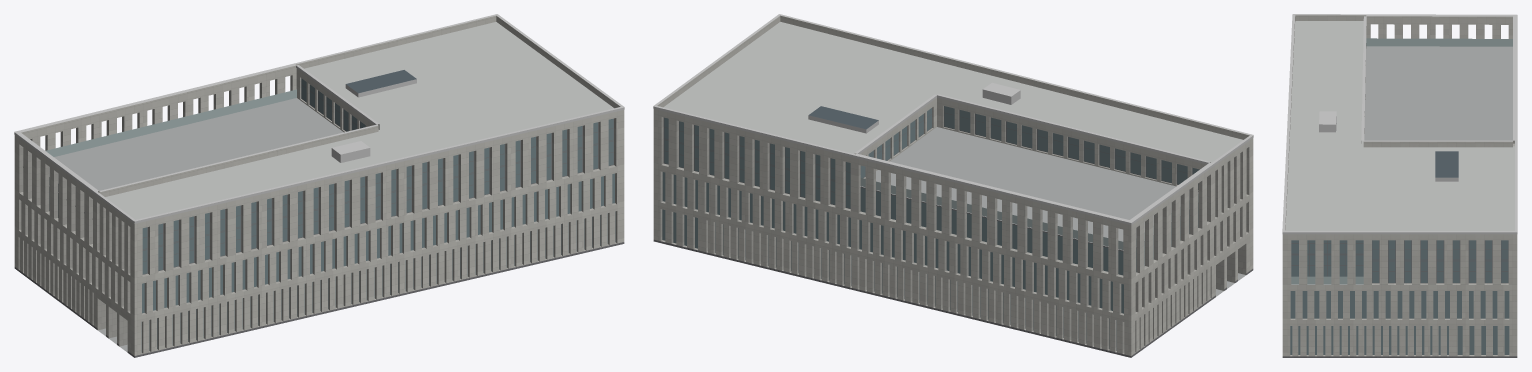
3 views of the same model, side by side, from view 1: azimuth 30°, elevation 25°; view 2: azimuth 150°, elevation 25°; view 3: azimuth 270°, elevation 25° (orthographic). The views are drawn at different scales.
Visible parts, largest first — view 1: slBigen__wall, slBigen__roof, slBigen__reveal, slBigen__glass, slBigen__paving, slBigen__cap, slBigen__frame, slBigen__glassRail, slBigen__plinth, slBigen__glassDeep; view 2: slBigen__wall, slBigen__roof, slBigen__reveal, slBigen__glass, slBigen__paving, slBigen__cap, slBigen__frame, slBigen__plinth, slBigen__glassRail, slBigen__glassDeep; view 3: slBigen__roof, slBigen__wall, slBigen__paving, slBigen__glass, slBigen__cap, slBigen__glassRail, slBigen__frame, slBigen__glassDeep, slBigen__reveal, slBigen__plinth.
Part boxes in pixels (left/top/right/bottom): slBigen__wall: left=14, top=15, right=624, bottom=355; slBigen__roof: left=105, top=22, right=613, bottom=219; slBigen__reveal: left=18, top=75, right=617, bottom=354; slBigen__glass: left=49, top=78, right=615, bottom=352; slBigen__paving: left=49, top=98, right=343, bottom=352; slBigen__cap: left=14, top=14, right=624, bottom=223; slBigen__frame: left=23, top=84, right=613, bottom=274; slBigen__glassRail: left=45, top=89, right=296, bottom=191; slBigen__plinth: left=14, top=242, right=624, bottom=357; slBigen__glassDeep: left=346, top=70, right=416, bottom=93; slBigen__wall: left=653, top=15, right=1253, bottom=355; slBigen__roof: left=663, top=22, right=1242, bottom=162; slBigen__reveal: left=660, top=106, right=1249, bottom=354; slBigen__glass: left=662, top=106, right=1199, bottom=350; slBigen__paving: left=861, top=127, right=1245, bottom=296; slBigen__cap: left=653, top=14, right=1253, bottom=224; slBigen__frame: left=663, top=106, right=1207, bottom=251; slBigen__plinth: left=653, top=239, right=1253, bottom=357; slBigen__glassRail: left=860, top=178, right=1198, bottom=249; slBigen__glassDeep: left=809, top=106, right=878, bottom=129; slBigen__roof: left=1285, top=21, right=1514, bottom=230; slBigen__wall: left=1282, top=15, right=1517, bottom=356; slBigen__paving: left=1291, top=46, right=1512, bottom=284; slBigen__glass: left=1290, top=240, right=1509, bottom=354; slBigen__cap: left=1282, top=14, right=1517, bottom=234; slBigen__glassRail: left=1291, top=38, right=1512, bottom=284; slBigen__frame: left=1291, top=240, right=1508, bottom=283; slBigen__glassDeep: left=1435, top=151, right=1458, bottom=177; slBigen__reveal: left=1290, top=24, right=1514, bottom=356; slBigen__plinth: left=1282, top=356, right=1517, bottom=357.
Size of the model in its own units: 66.17 by 18.1 by 30.15.
Materials: 11 (3 with a texture image).
